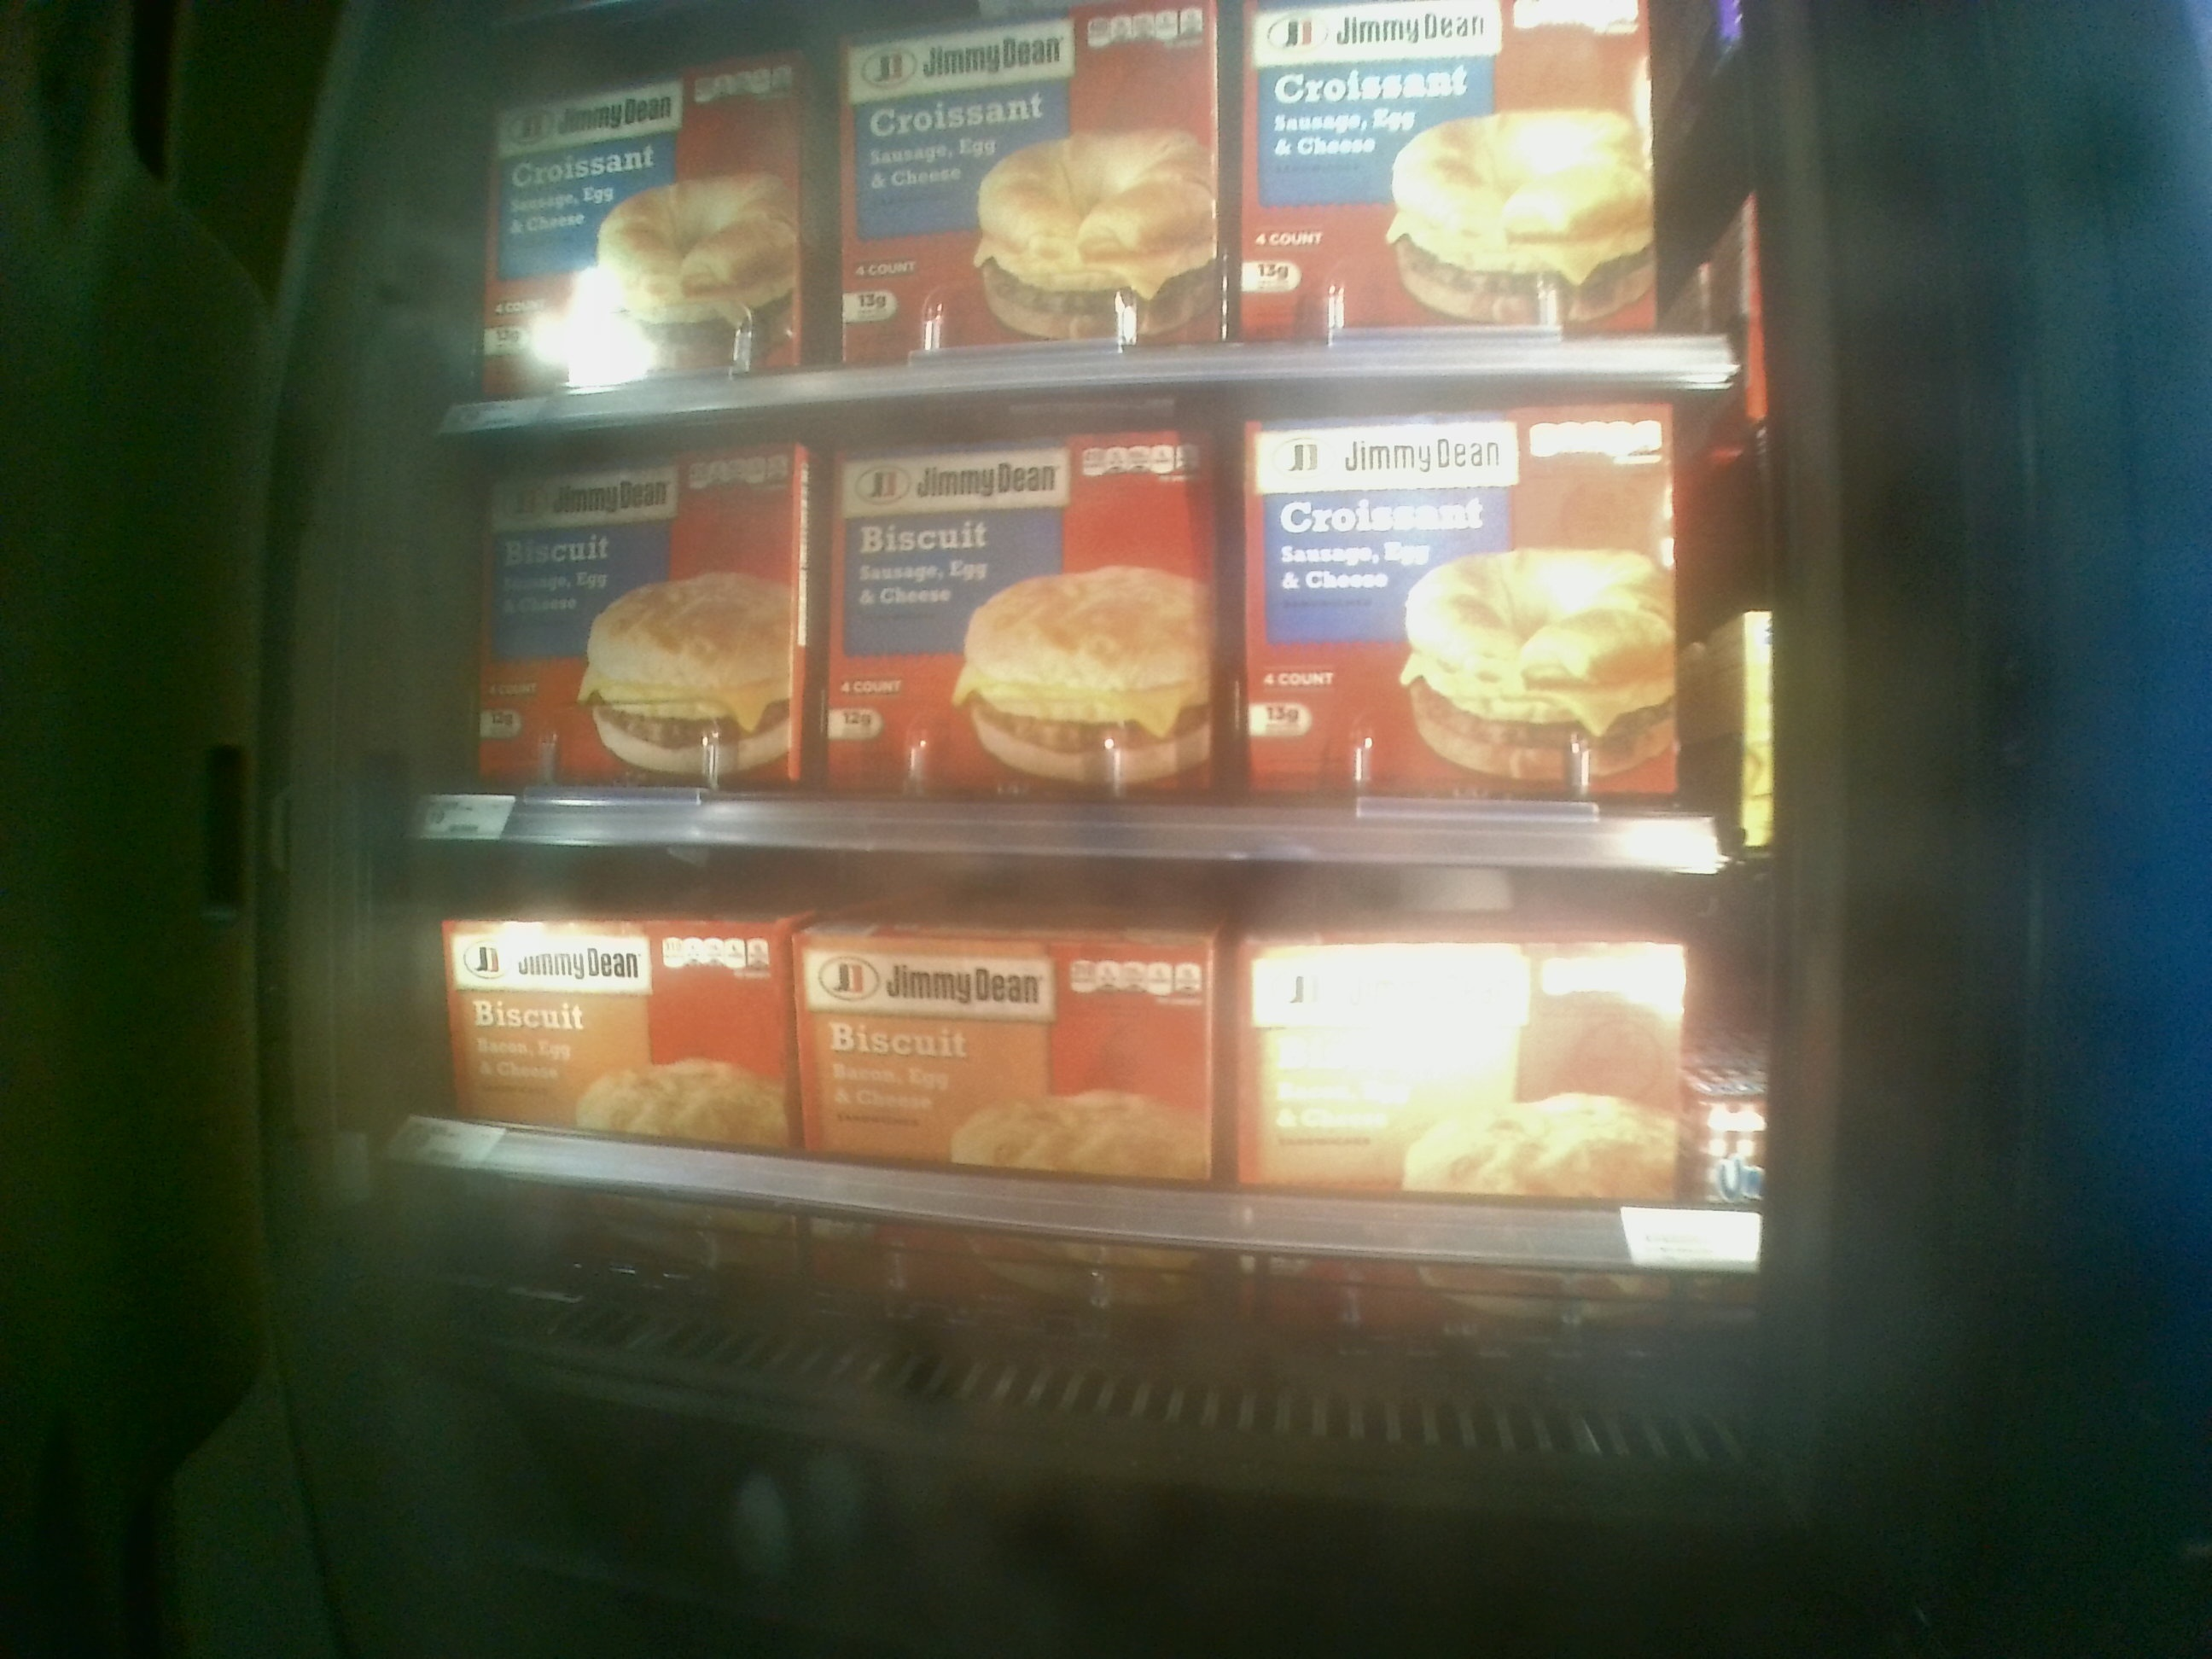shelf: (416, 847, 1761, 1391), (434, 396, 1738, 868)
